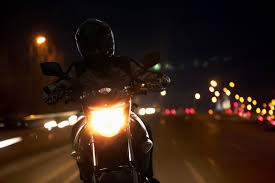motorcycle: (38, 53, 163, 183)
